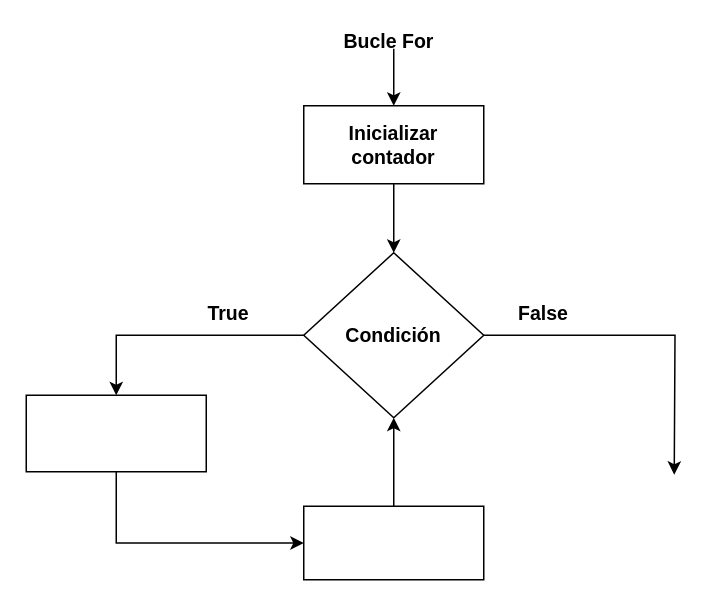
The diagram is 714 pixels wide and 606 high, and some of its shapes have lost their labels. Here are the shapes that lost their labels. From the top down, the centre of each, then its label:
the point at 115,433: Bloque de código
the point at 393,542: Actualizar contador
